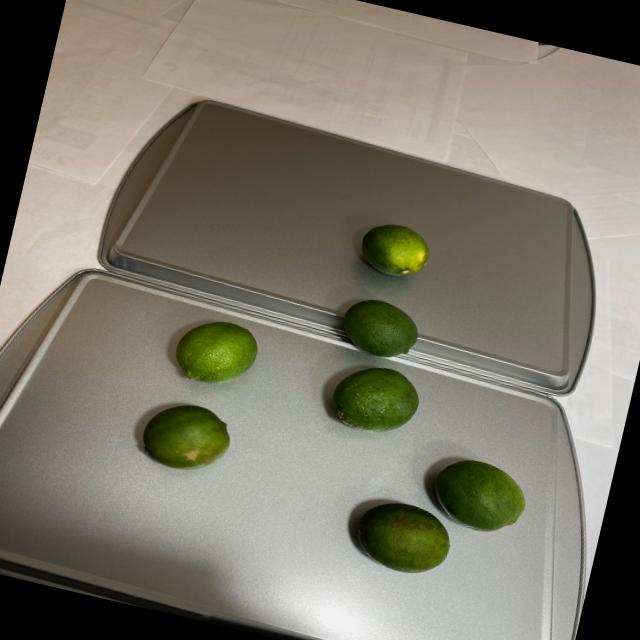lemon: (283, 212, 580, 590), (128, 310, 264, 480)
